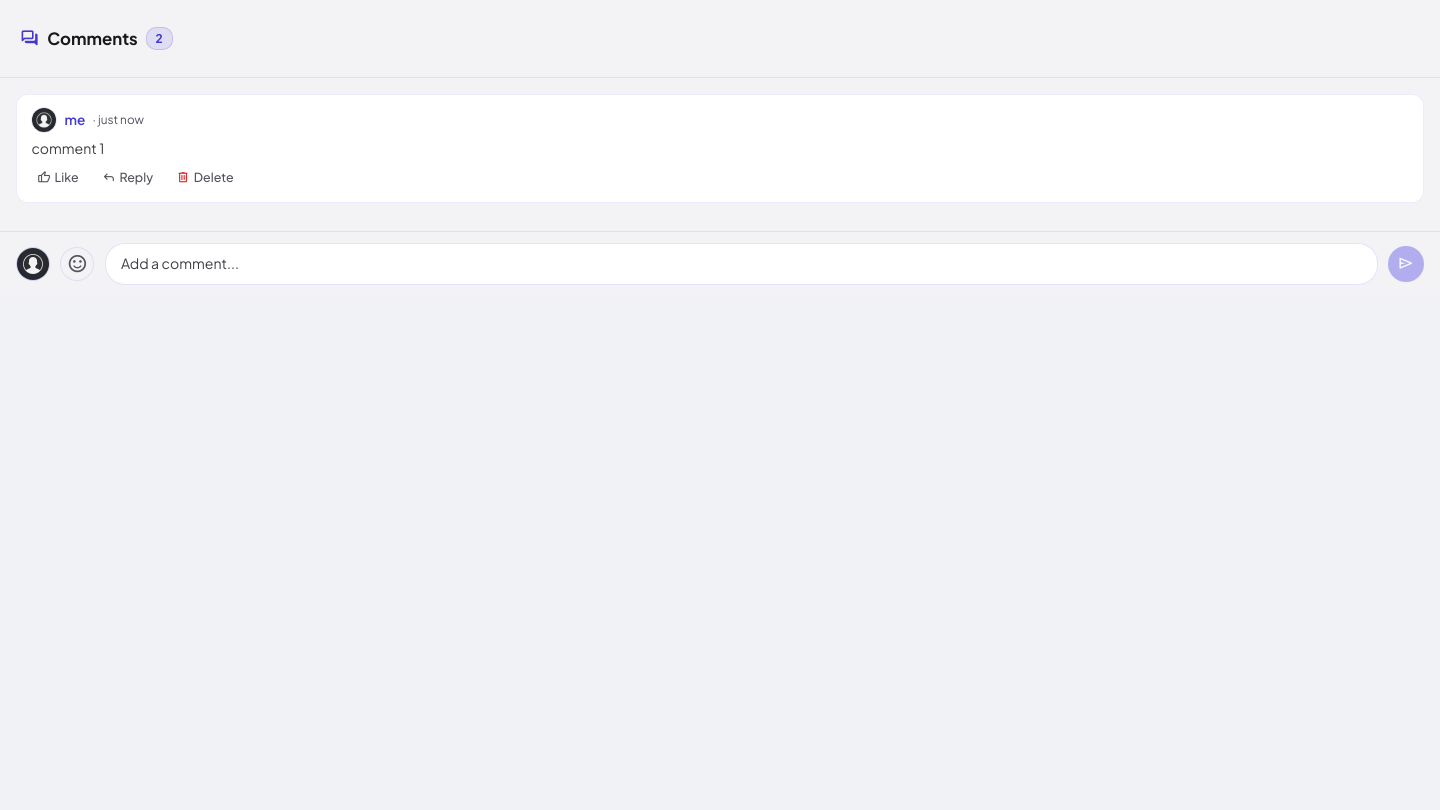
Scenario: PostCommentsPanel › does nothing when the user cancels the delete confirmation
The image size is (1440, 810).
Expected: the text "comment 1" is shown, [31,139,104,157]
Click the button with aria-label "delete comment by" at [205, 178], box [171,166,239,190]
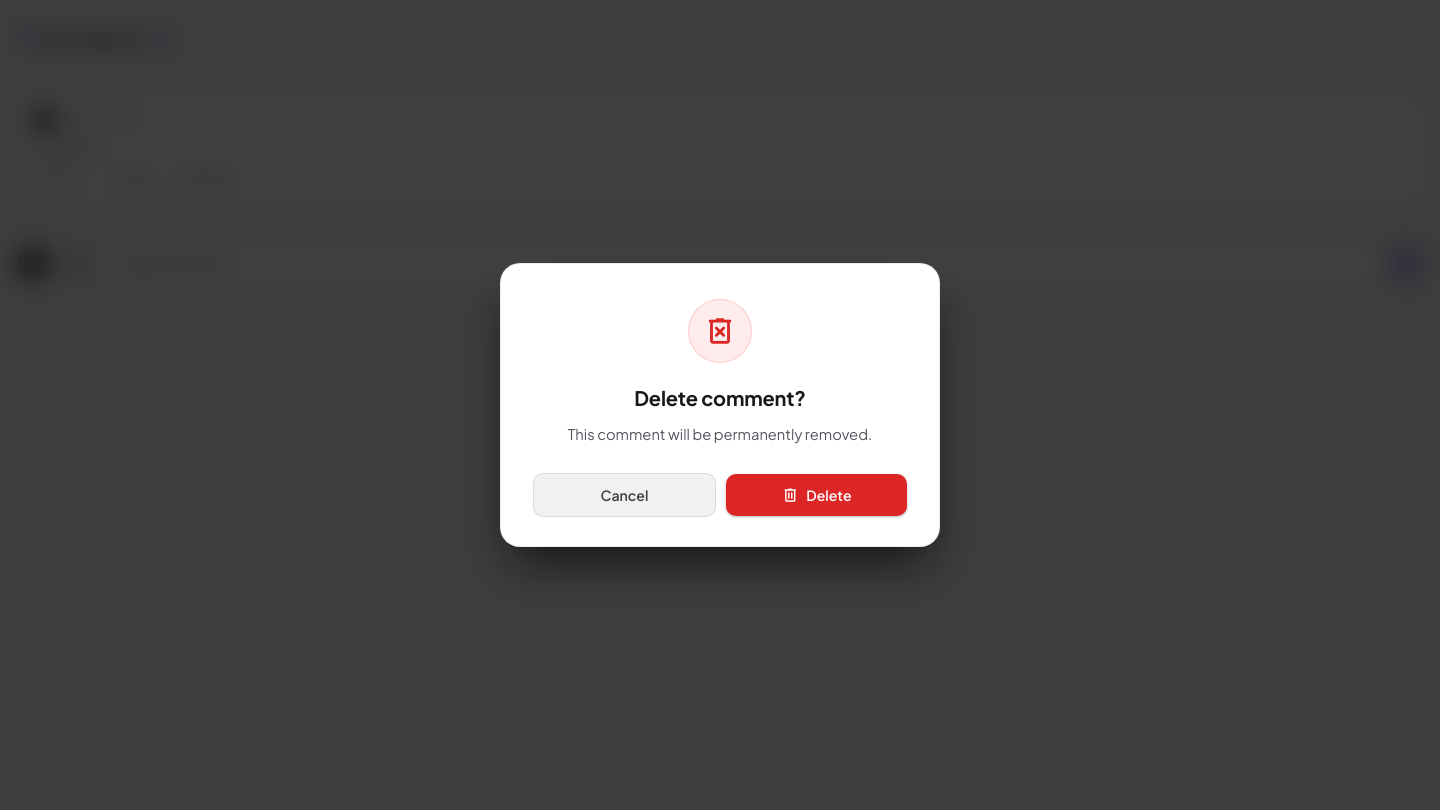
Click the button "Cancel" at [624, 495], box [533,474,716,517]
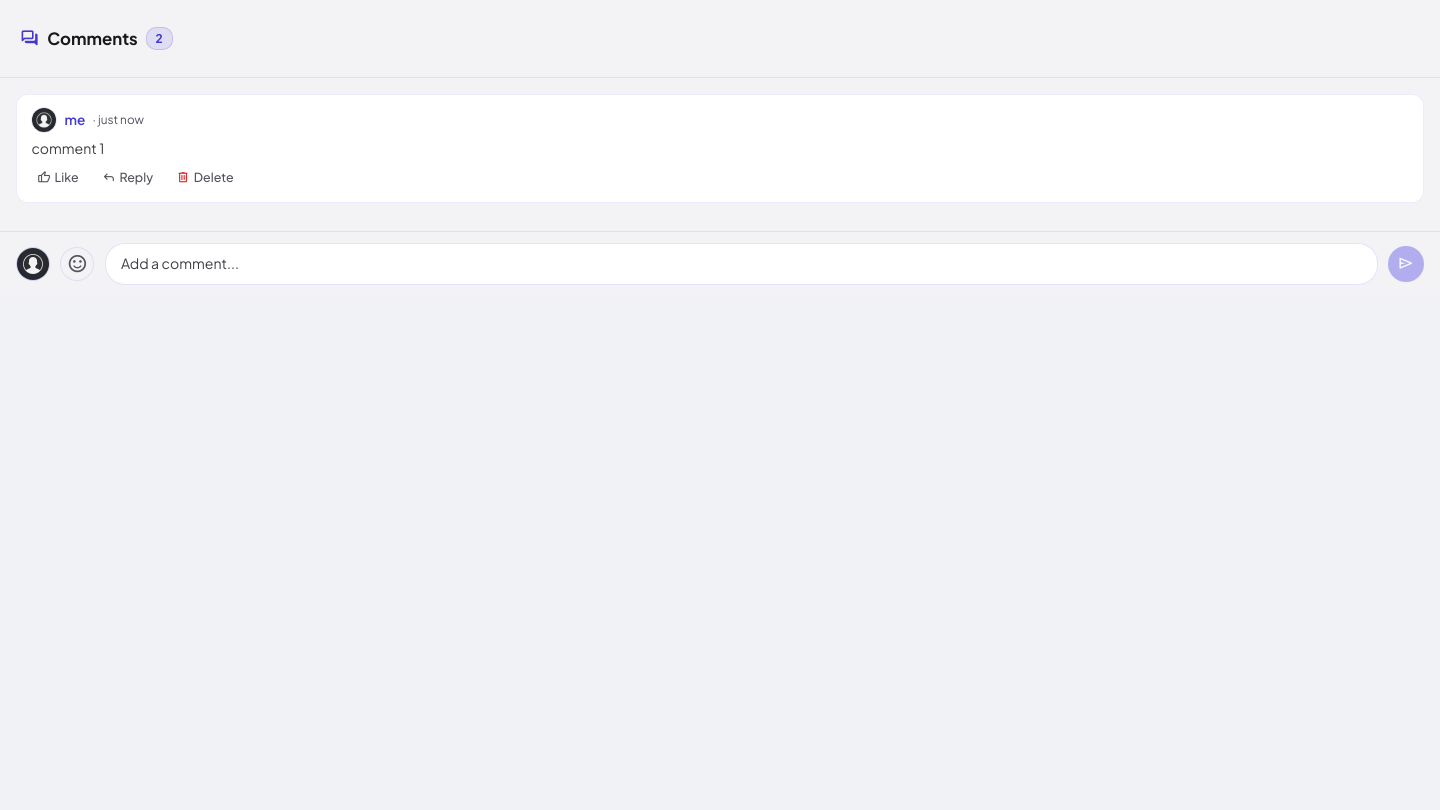
Expected: the text "comment 1" is shown, [31,139,104,157]
Expected: the dialog is gone
